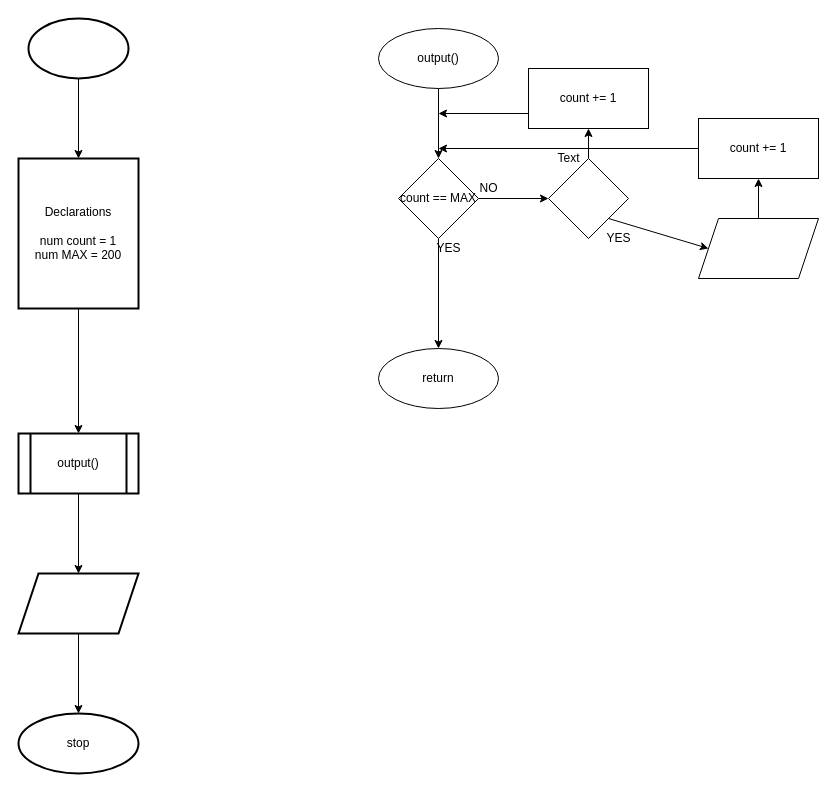
Some shapes in this 836 by 791 pixel diagram are drawn without their labels. The shapes that lost their labels are listed below. From the top down, each one's box as (x1, y1, x2, y2) in pixels, then its label:
(27, 17, 129, 79): start
(548, 158, 628, 238): count % 2 ==0
(698, 218, 818, 278): output count
(17, 572, 139, 634): output "end of program"
